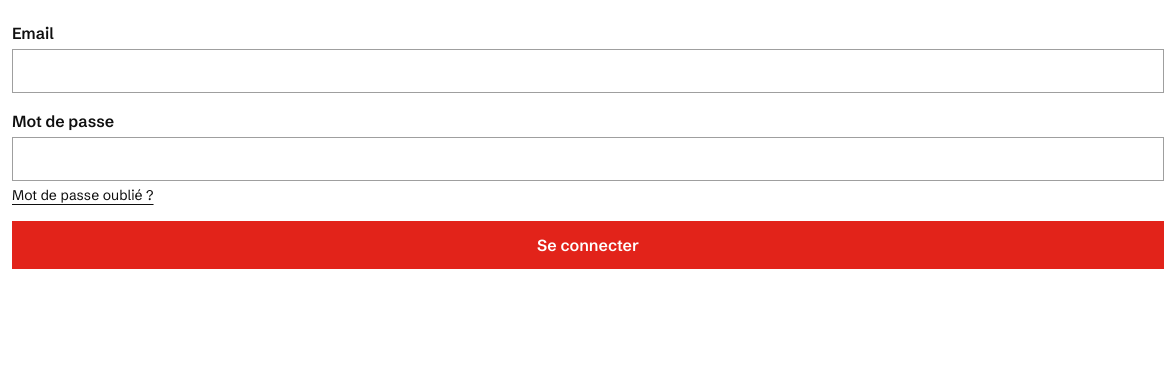
LoginForm › email non vérifié : propose de renvoyer le lien
This screenshot has width=1176, height=382.
Type "admin@exemple.fr" into the field labelled "Email" at (588, 71), box [12,49,1164,93]
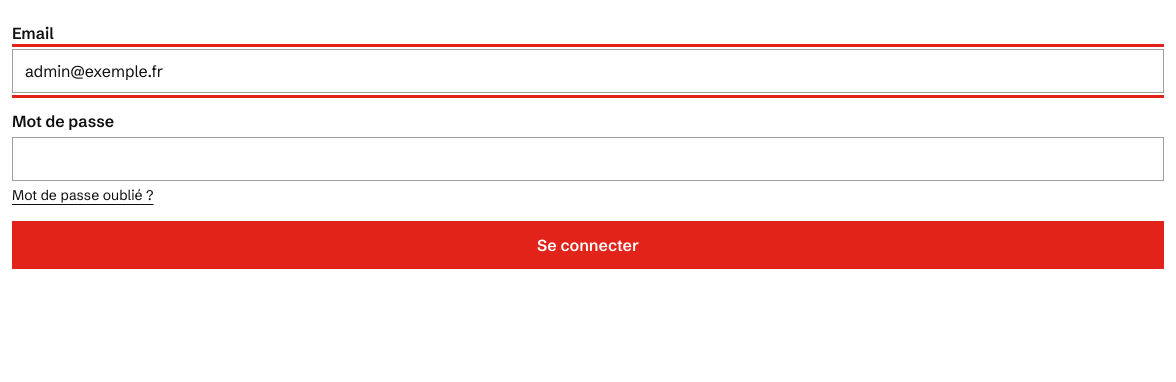
Type "Foulee-2026-lyon" into the password field labelled "Mot de passe" at (588, 159), box [12,137,1164,181]
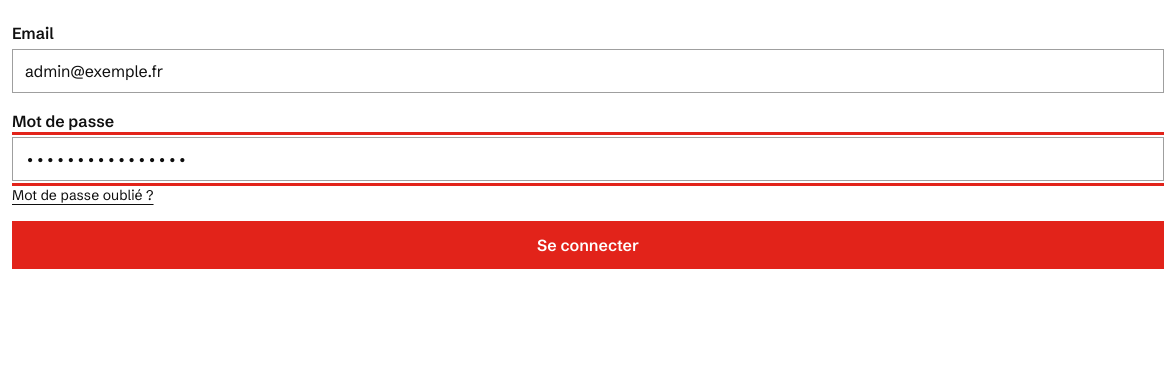
Click the button "Se connecter" at (588, 245), box [12,221,1164,269]
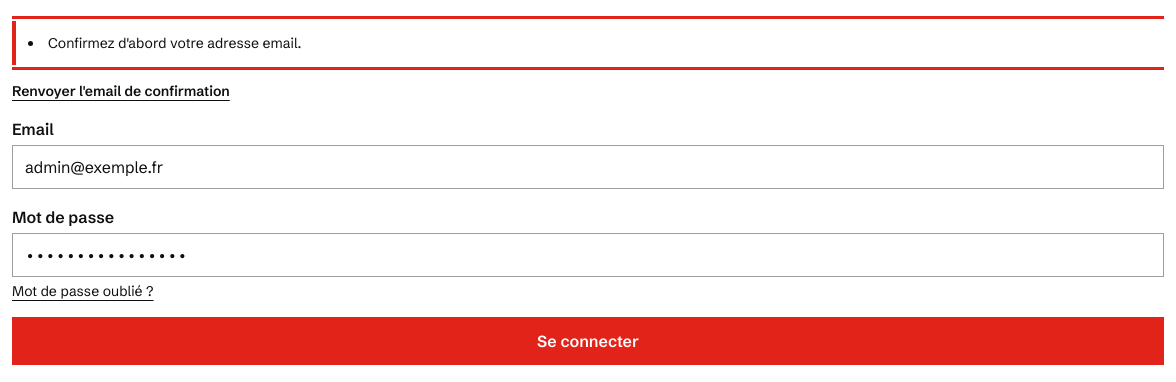
Click the button "Renvoyer l'email de confirmation" at (121, 91), box [12,81,230,101]
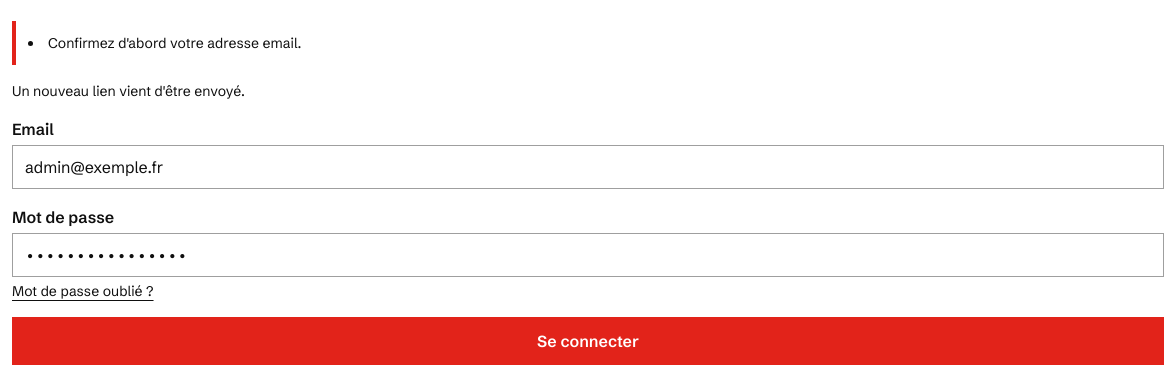
Now the text "Un nouveau lien vient d'être envoyé." is shown, box [12,82,245,100]
